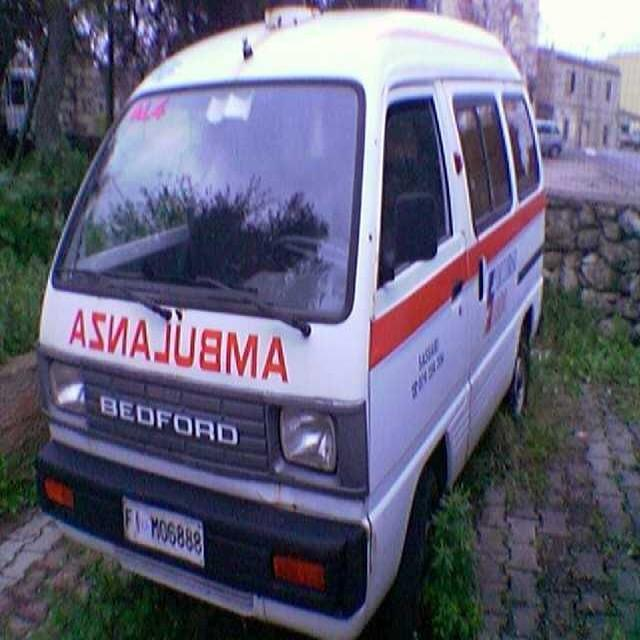emergency-vehicle: (35, 8, 549, 624)
